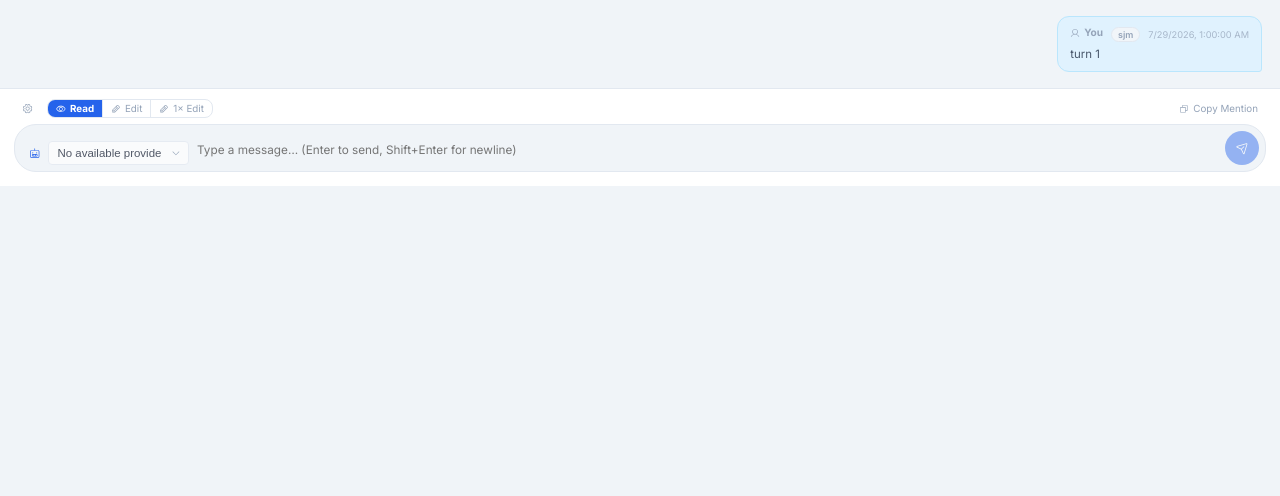
ConversationView optimistic send › keeps a failed turn before later SSE and catch-up page turns
Type "failed A" into the text box with placeholder "Type a message… (Enter to send, Shift+Enter for newline)".
click(707, 151); type("failed A")  # box [197,137,1217,165]
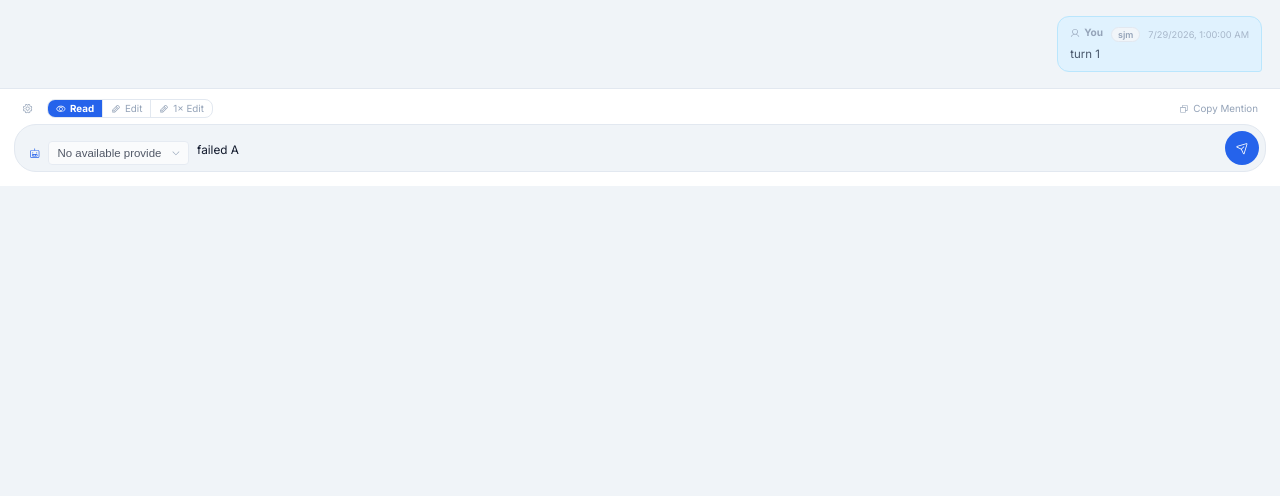
Submit the form, box [0,88,1279,186]
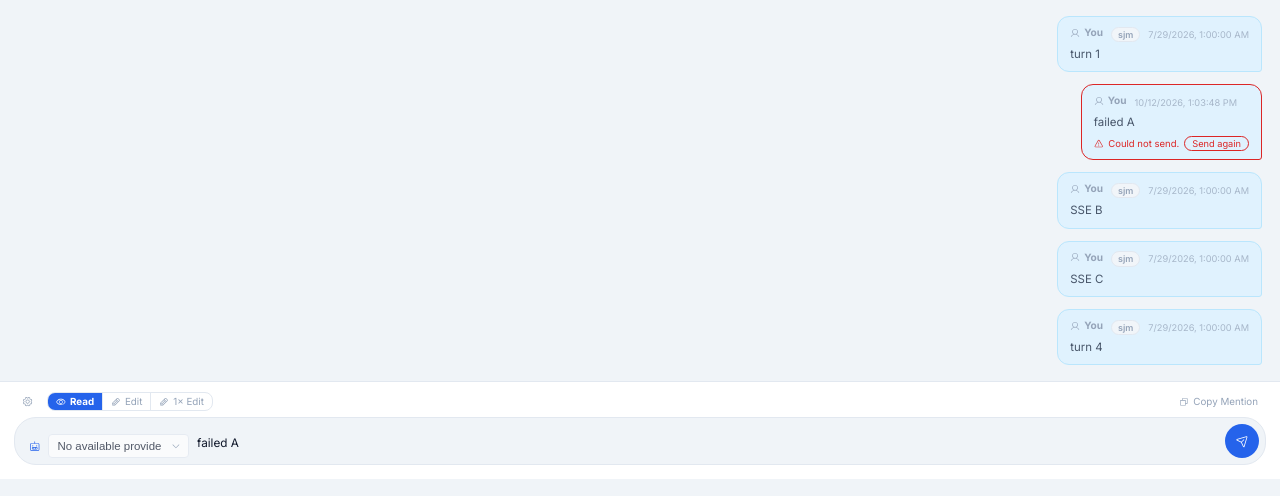
Result: the text with class "conv-body" reads "failed A" at [1094,115,1135,129]
Result: the elements with class "conv-body" read "turn 1", "failed A", "SSE B", "SSE C", "turn 4", in this order at [1070,47,1100,61]; [1094,115,1135,129]; [1070,203,1102,217]; [1070,272,1103,286]; [1070,340,1103,354]
Result: the button with class "conv-retry" is shown at [1184,136,1249,151]
